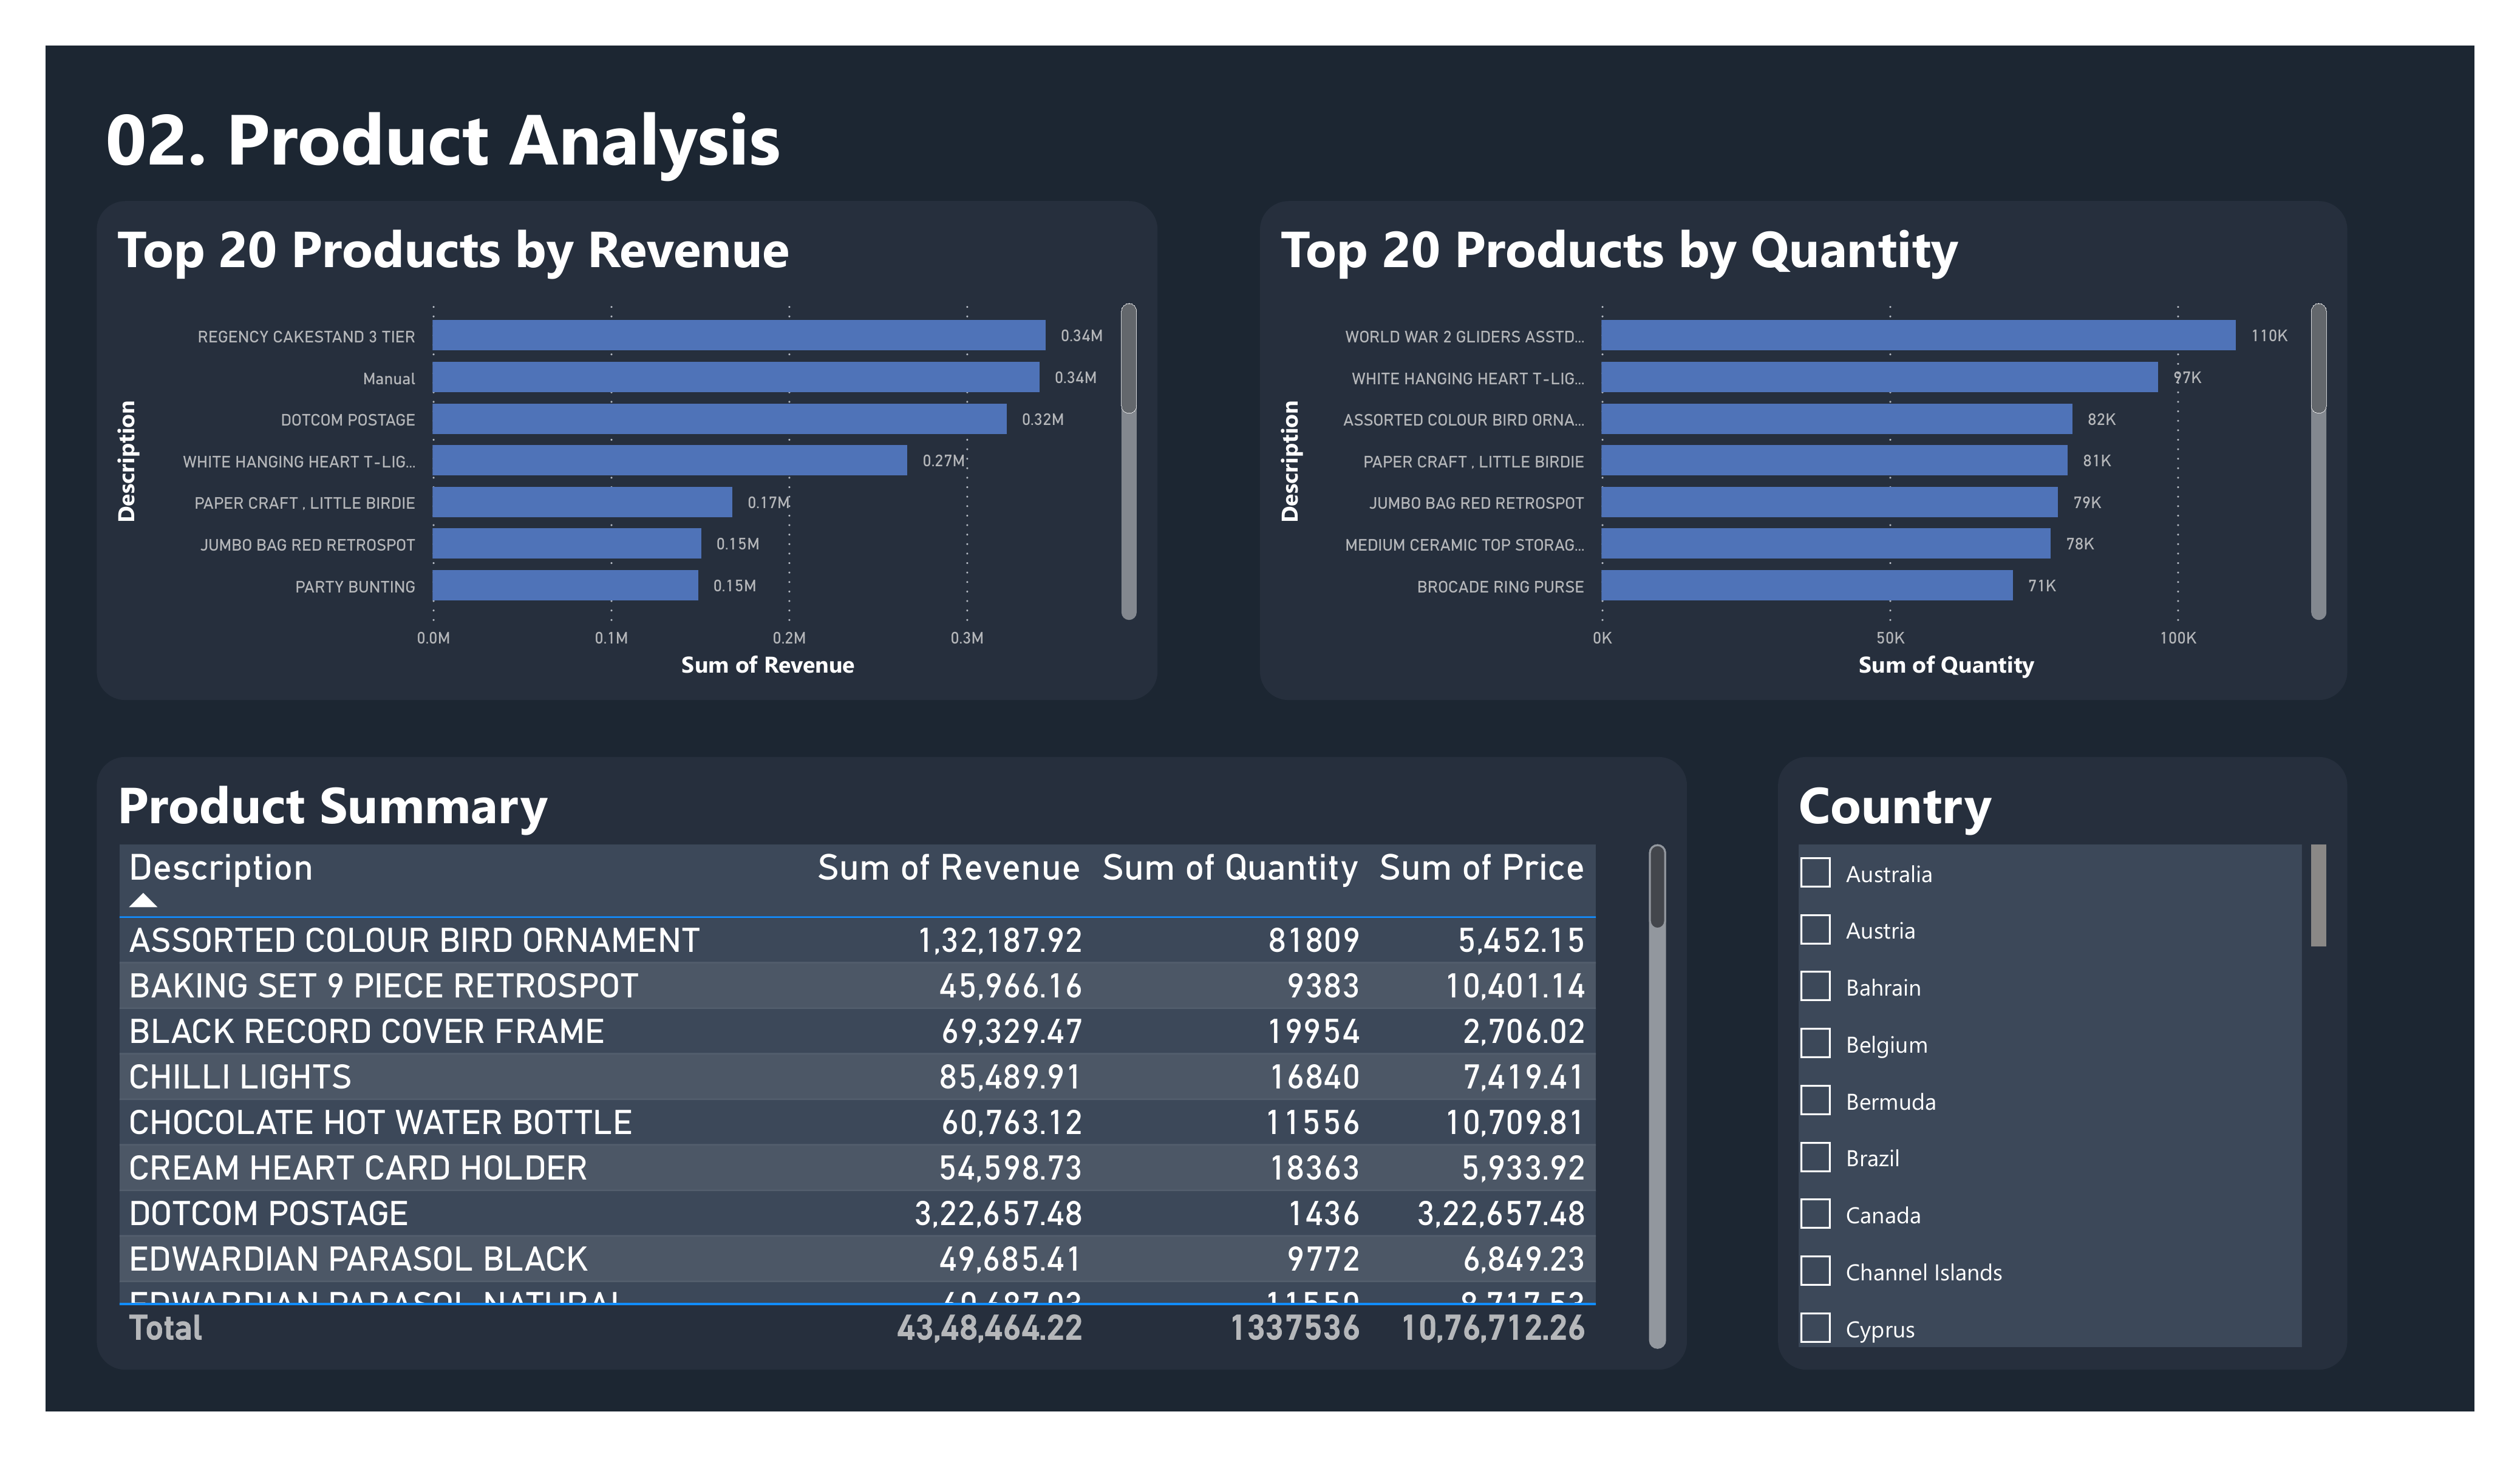

The dashboard page shown, as its layout file describes it:
{"tool":"powerbi","page":{"name":"02. Product Analysis","canvas":[1280,720],"ordinal":1},"visuals":[{"type":"textbox","box":[27,17.6,424.2,64.5],"z":0},{"type":"clusteredBarChart","title":"Top 20 Products by Revenue","fields":{"Y":["Sum(Cleaned_Combined_Data.Revenue)"],"Category":["Cleaned_Combined_Data.Description"]},"box":[27,82,559,262.5],"z":1000},{"type":"clusteredBarChart","title":"Top 20 Products by Quantity","fields":{"Category":["Cleaned_Combined_Data.Description"],"Y":["Sum(Cleaned_Combined_Data.Quantity)"]},"box":[639.9,82,573.1,262.5],"z":2000},{"type":"tableEx","title":"Product Summary","fields":{"Values":["Cleaned_Combined_Data.Description","Sum(Cleaned_Combined_Data.Revenue)","Sum(Cleaned_Combined_Data.Quantity)","Sum(Cleaned_Combined_Data.Price)"]},"box":[27,375,837.9,323.4],"z":3000},{"type":"listSlicer","fields":{"Values":["Cleaned_Combined_Data.Country"]},"box":[912.9,375,300,323.4],"z":4000}]}

Visuals, with their boxes on the page's 1280x720 design canvas (x1, y1, x2, y2). These are canvas units, not pixel positions in the 2520x1457 screenshot, which may show the page scaled, cropped or inside an application window:
textbox: {"x1": 27, "y1": 18, "x2": 451, "y2": 82}
"Top 20 Products by Revenue" clusteredBarChart: {"x1": 27, "y1": 82, "x2": 586, "y2": 344}
"Top 20 Products by Quantity" clusteredBarChart: {"x1": 640, "y1": 82, "x2": 1213, "y2": 344}
"Product Summary" tableEx: {"x1": 27, "y1": 375, "x2": 865, "y2": 698}
listSlicer - Cleaned_Combined_Data.Country: {"x1": 913, "y1": 375, "x2": 1213, "y2": 698}
